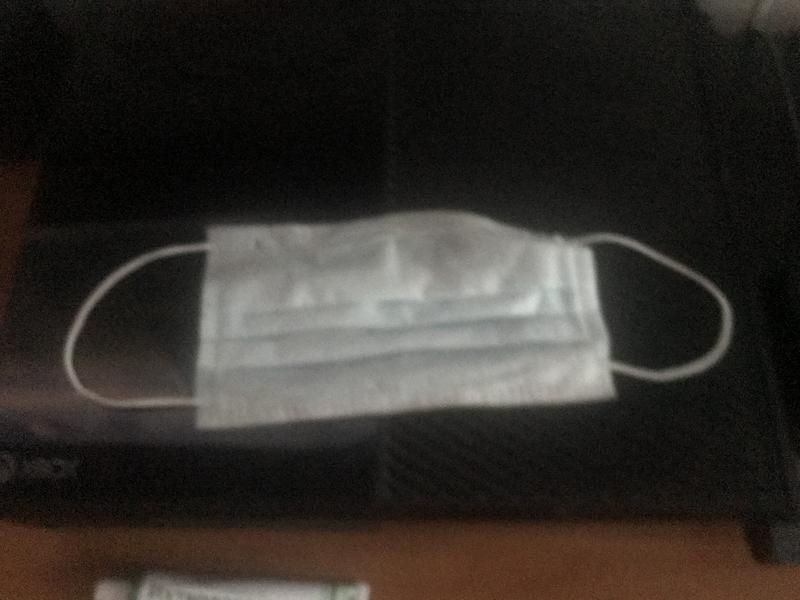medical_mask: (65, 212, 734, 430)
